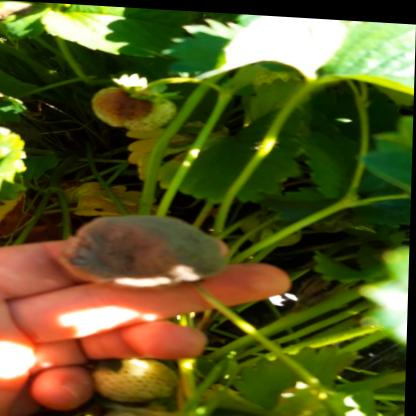unripe: (70, 210, 237, 292), (76, 347, 191, 407), (91, 77, 180, 131)
